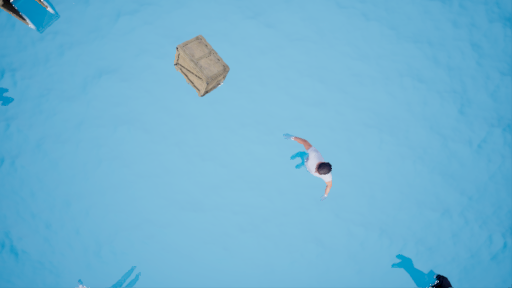person: (281, 127, 340, 205)
